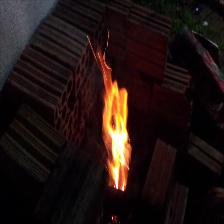fire: (96, 52, 136, 192)
